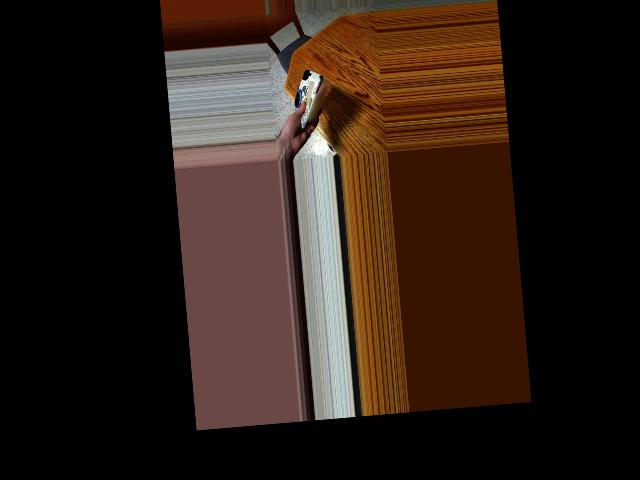cheese: (283, 70, 331, 121)
